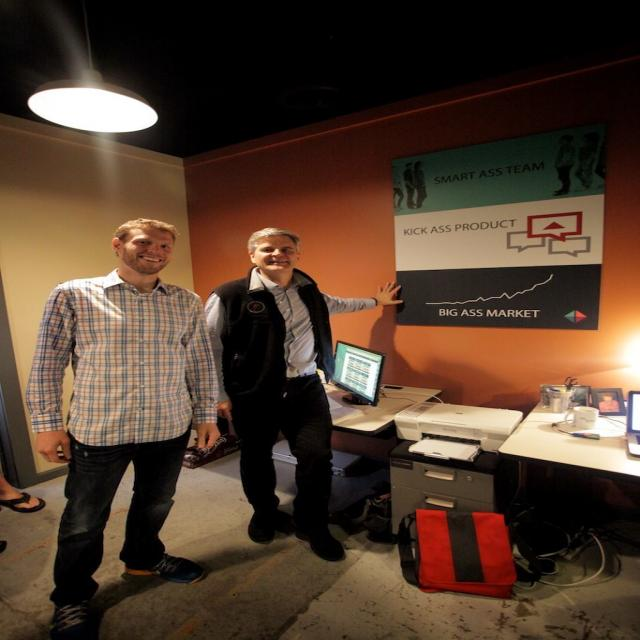desk: (462, 396, 636, 580)
person: (24, 213, 223, 635), (200, 228, 404, 558)
tv: (329, 340, 385, 406)
